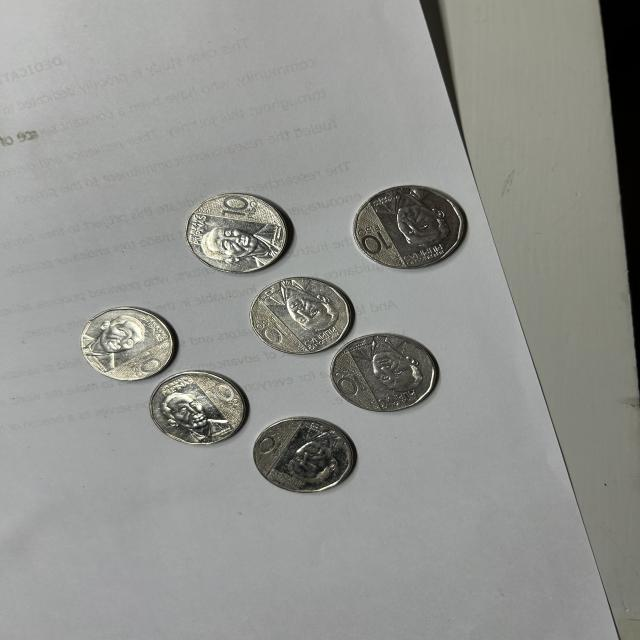10_New_Front: (324, 362, 370, 406), (354, 218, 395, 259), (209, 192, 260, 220), (196, 380, 241, 411), (255, 307, 288, 345), (257, 426, 292, 454), (126, 350, 162, 376)
